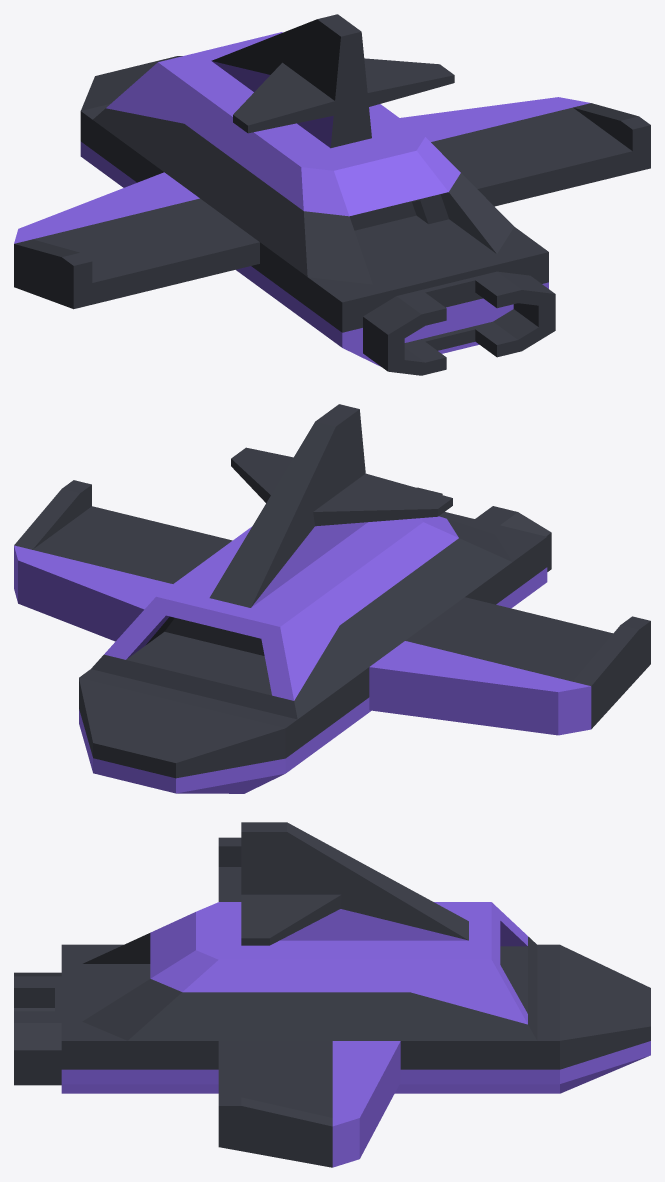
Rendered from ship.fbx.
The picture shows the model from 3 angles, top to bottom: view 1: azimuth 30°, elevation 25°; view 2: azimuth 150°, elevation 25°; view 3: azimuth 270°, elevation 25°; orthographic projection. The views are drawn at different scales.
Visible parts, largest first — view 1: mergedBlocks; view 2: mergedBlocks; view 3: mergedBlocks.
Boxes of the visible parts, bbox=[...] form: mergedBlocks: bbox=[14, 14, 650, 375]; mergedBlocks: bbox=[14, 404, 650, 793]; mergedBlocks: bbox=[14, 822, 650, 1167].
Size of the model in its own units: 27.91 by 11.54 by 28.
